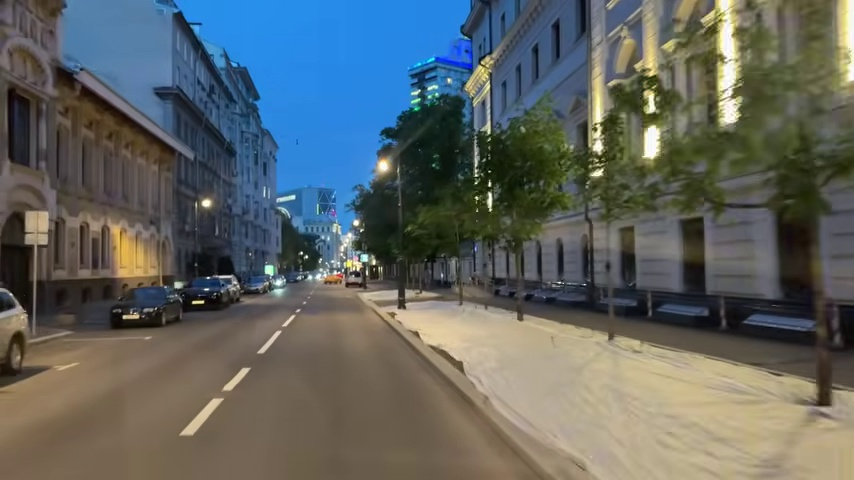acesa: (375, 156, 395, 179), (197, 196, 215, 212)
